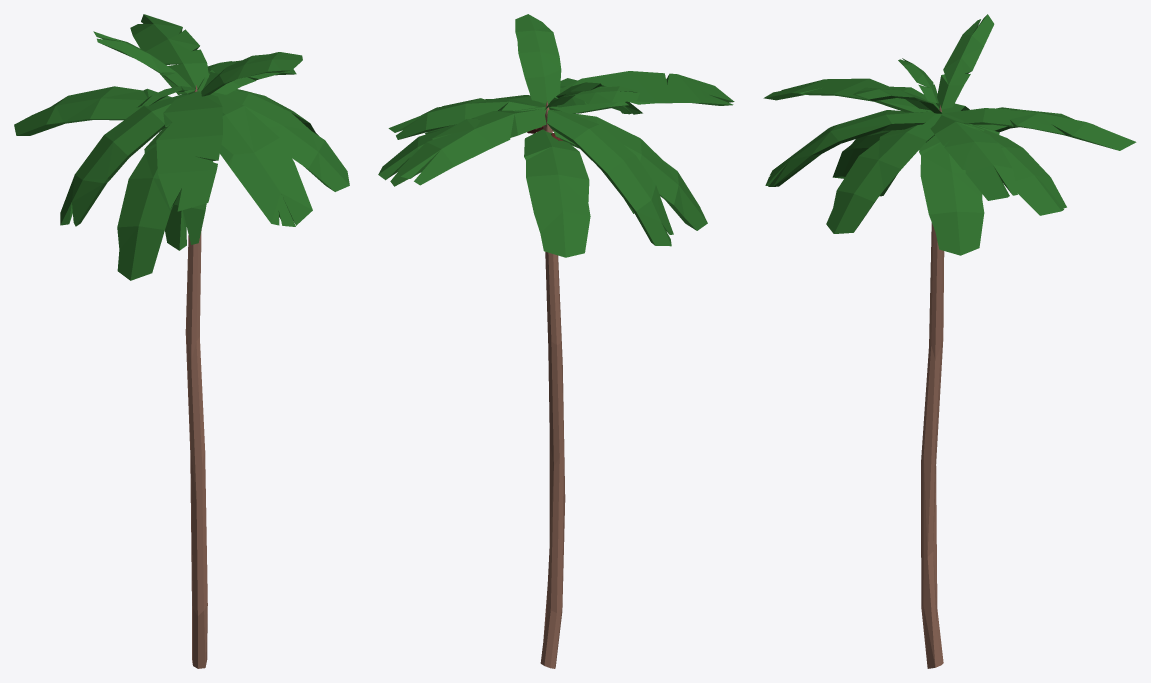
The model's file is Palm A.fbx.
3 views of the same model, side by side, from view 1: azimuth 30°, elevation 25°; view 2: azimuth 150°, elevation 25°; view 3: azimuth 270°, elevation 25° (orthographic). The views are drawn at different scales.
Visible parts, largest first — view 1: Palm A; view 2: Palm A; view 3: Palm A.
Boxes of the visible parts, x1,y1,x2,y2 form: Palm A: [14, 14, 349, 668]; Palm A: [378, 14, 734, 668]; Palm A: [763, 14, 1136, 668].
Size of the model in its own units: 639 by 1471 by 808.
